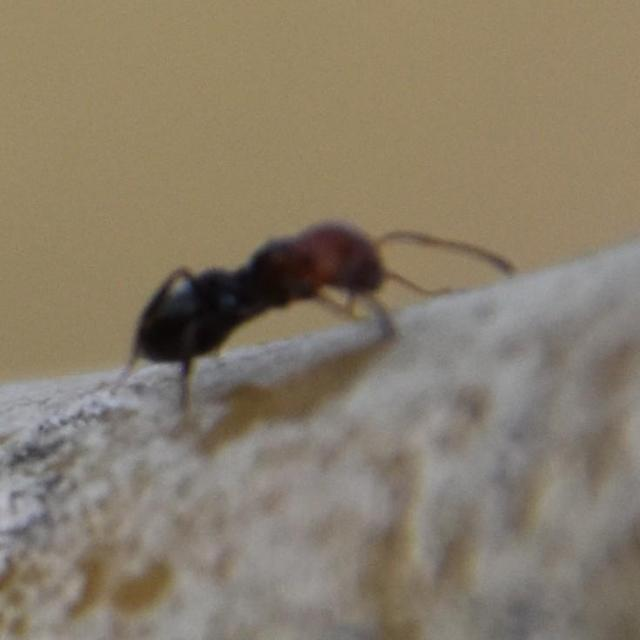Crematogaster: (113, 190, 405, 386)
